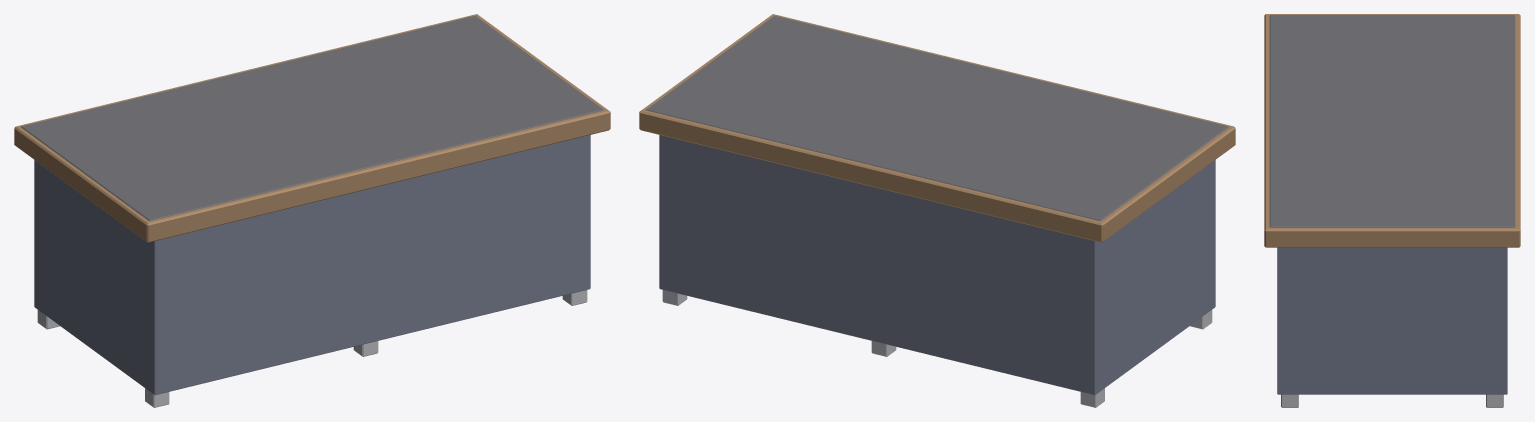
The model's file is stage-platform.glb.
3 renders of one model, left to right at view 1: azimuth 30°, elevation 25°; view 2: azimuth 150°, elevation 25°; view 3: azimuth 270°, elevation 25°, orthographic. The views are drawn at different scales.
Visible parts, largest first — view 1: stage-platform-module; view 2: stage-platform-module; view 3: stage-platform-module.
Part boxes in pixels (x1,y1,x2,y2): stage-platform-module: [14, 14, 610, 407]; stage-platform-module: [639, 14, 1235, 407]; stage-platform-module: [1264, 14, 1520, 407].
Size of the model in its own units: 2 by 0.804 by 1.
